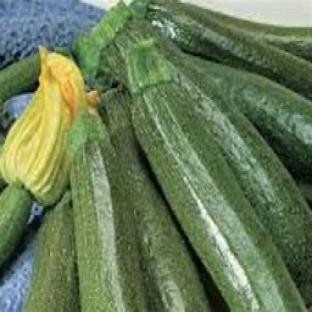Zucchini: (127, 41, 305, 311), (167, 52, 311, 302), (104, 90, 209, 311), (180, 58, 311, 180), (69, 111, 148, 311), (183, 4, 311, 60), (24, 193, 79, 311), (0, 185, 31, 268), (0, 54, 40, 106), (299, 184, 311, 205)
